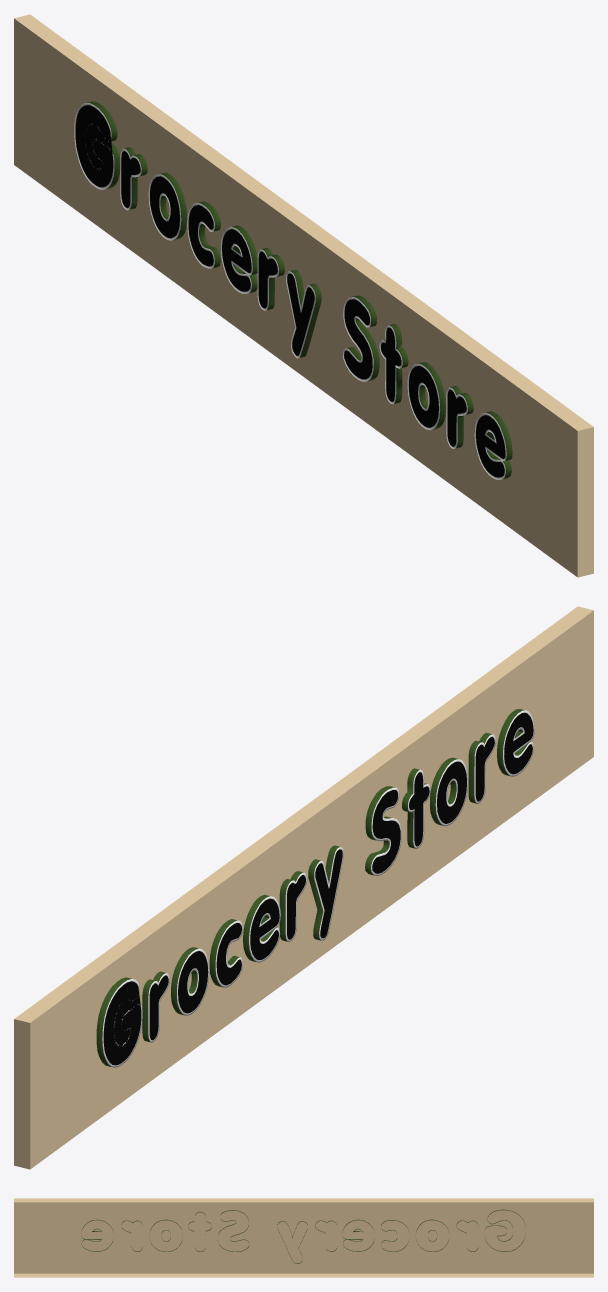
File: Sign board.fbx
3 renders of one model, top to bottom at view 1: azimuth 30°, elevation 25°; view 2: azimuth 150°, elevation 25°; view 3: azimuth 270°, elevation 25°, orthographic. The views are drawn at different scales.
Parts seen in each view (by area): view 1: Sign Board; view 2: Sign Board; view 3: Sign Board.
Boxes of the visible parts, x1=… form: Sign Board: x1=14, y1=14, x2=593, y2=577; Sign Board: x1=14, y1=606, x2=593, y2=1169; Sign Board: x1=14, y1=1198, x2=593, y2=1277.
Size of the model in its own units: 0.2793 by 1.76 by 12.29.
